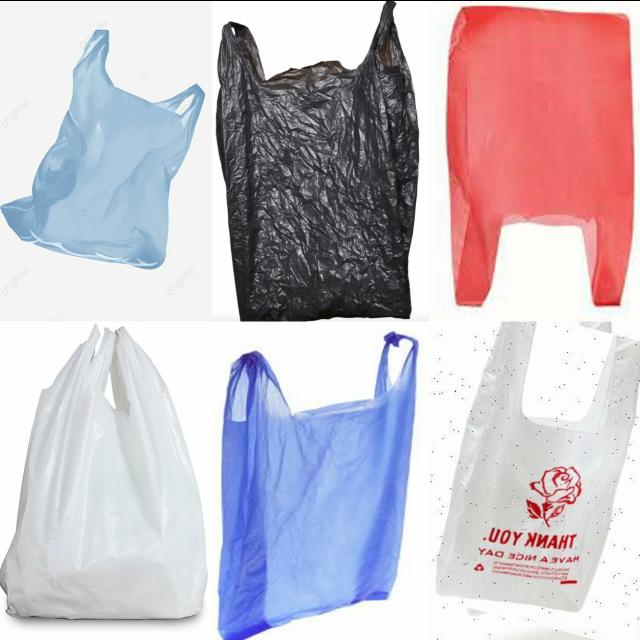plastik: (218, 0, 419, 320), (219, 332, 417, 640), (1, 328, 206, 618), (436, 323, 640, 611), (448, 5, 633, 305), (1, 29, 205, 268)
